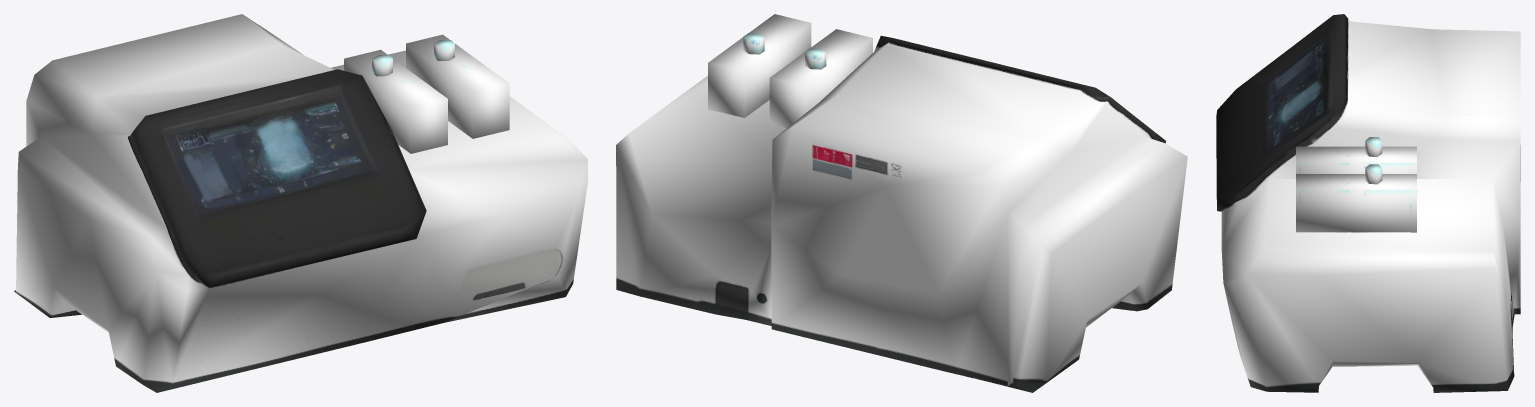
Rendered from 转膜仪.glb.
3 renders of one model, left to right at view 1: azimuth 30°, elevation 25°; view 2: azimuth 150°, elevation 25°; view 3: azimuth 270°, elevation 25°, orthographic. The views are drawn at different scales.
Parts seen in each view (by area): view 1: 转膜仪; view 2: 转膜仪; view 3: 转膜仪.
Boxes of the visible parts, x1,y1,x2,y2 form: 转膜仪: [14, 14, 587, 392]; 转膜仪: [616, 14, 1187, 392]; 转膜仪: [1216, 14, 1520, 392].
Bounding box in the file's own units: 0.3025 × 0.155 × 0.2025.
1 material, 1 textured.
